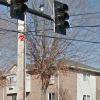Traffic light: (37, 0, 80, 45)
